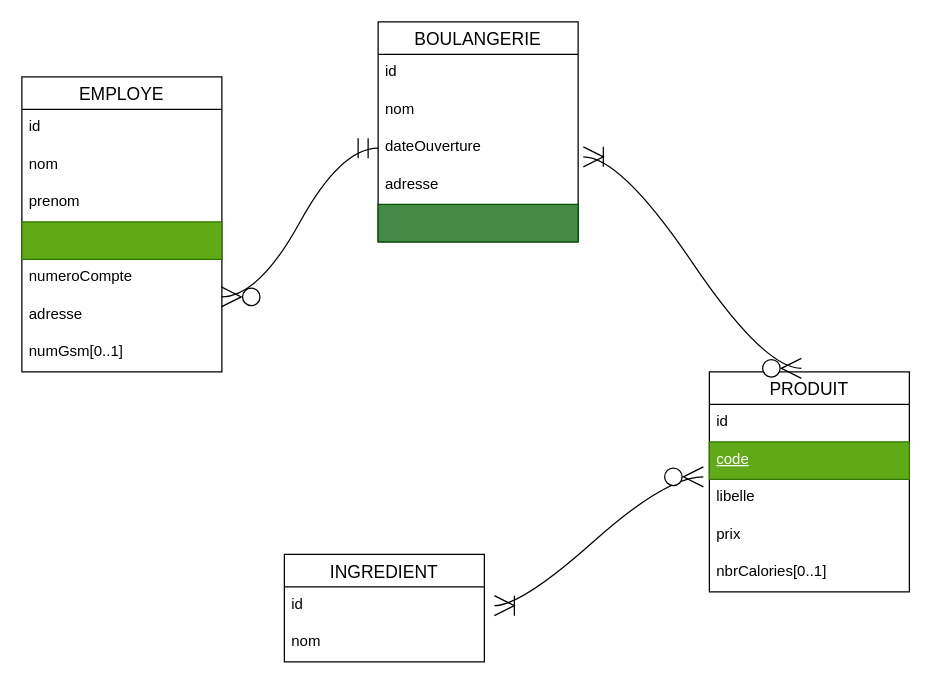
This 931x688 diagram has some shape labels left out. Here are the shapes that lost their labels. From the top down, the box of each, then its label:
(21, 221, 222, 259): registreNational
(377, 203, 578, 242): reference
